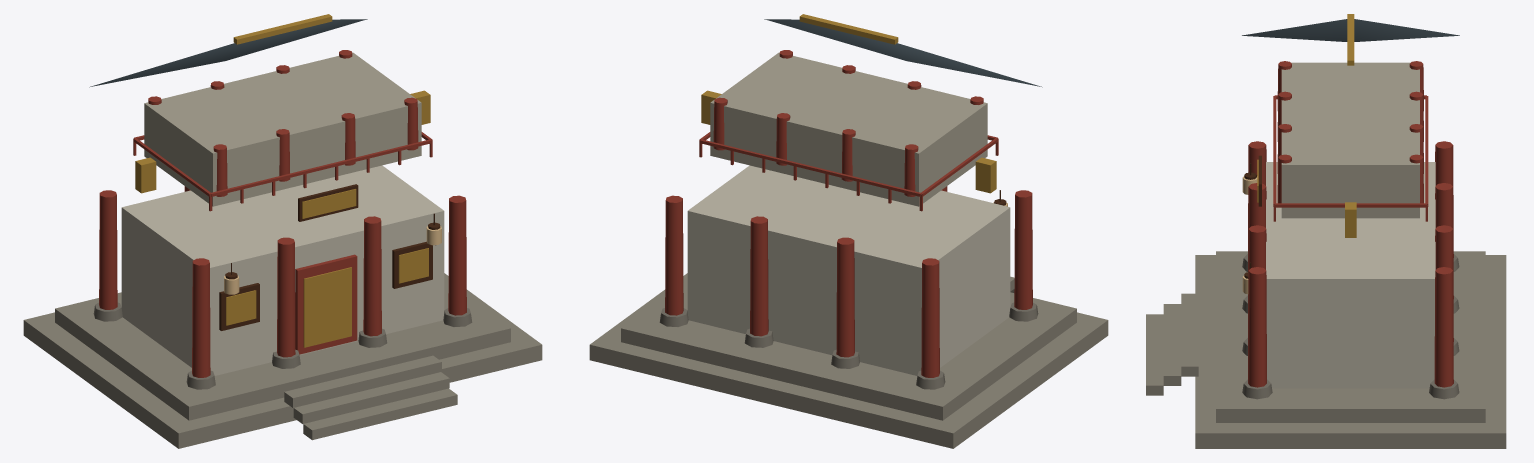
File: tang-hall.glb
The picture shows the model from 3 angles, left to right: view 1: azimuth 30°, elevation 25°; view 2: azimuth 150°, elevation 25°; view 3: azimuth 270°, elevation 25°; orthographic projection.
Parts seen in each view (by area): view 1: tang-hall; view 2: tang-hall; view 3: tang-hall.
Boxes of the visible parts, left/top/right/bottom form: tang-hall: left=23, top=14, right=542, bottom=448; tang-hall: left=589, top=14, right=1108, bottom=448; tang-hall: left=1146, top=14, right=1506, bottom=448.
Bounding box in the file's own units: 13.1 × 10.29 × 10.81.
